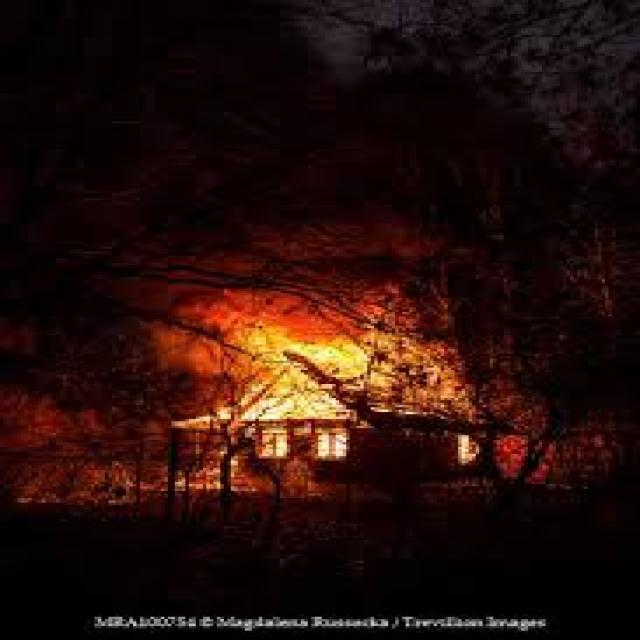Fire: (171, 304, 460, 492), (497, 398, 562, 476)
Smoke: (220, 226, 416, 294)
